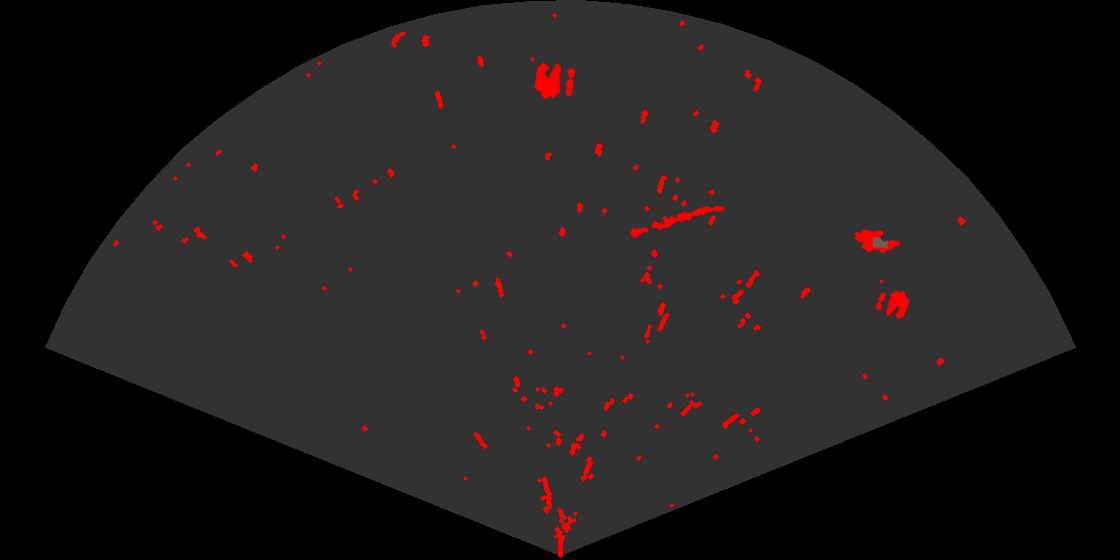AUV: (853, 228, 902, 254)
ball: (532, 60, 577, 101), (874, 289, 911, 321)
chain: (627, 204, 726, 240)
